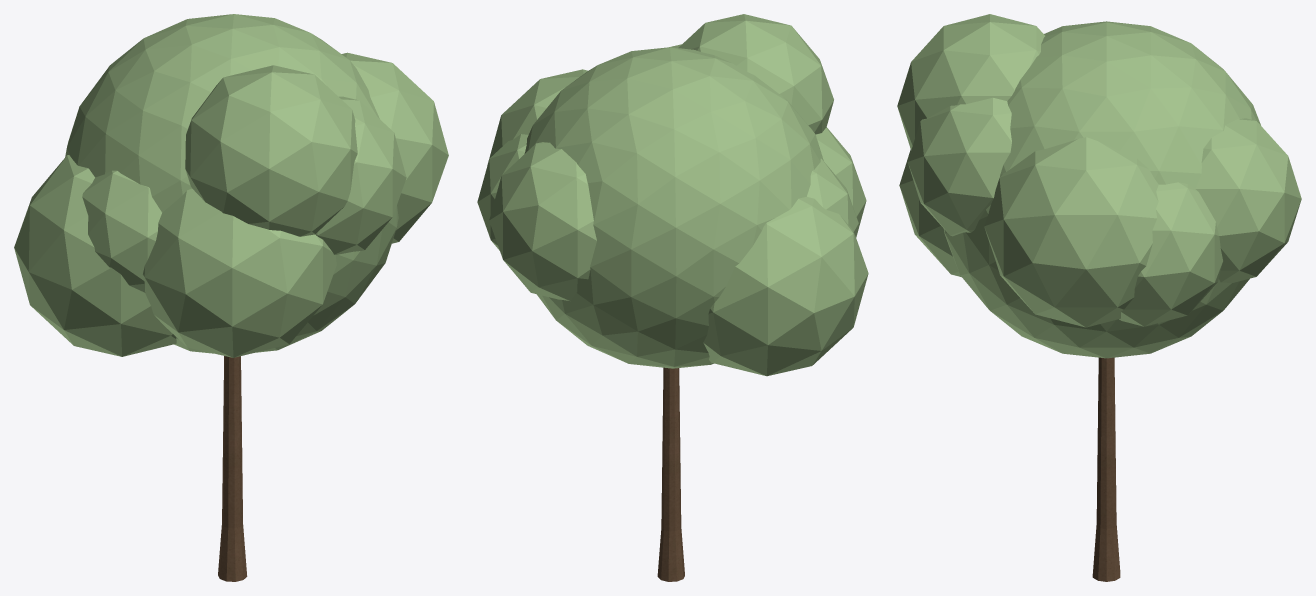
Rendered from tree.glb.
3 views of the same model, side by side, from view 1: azimuth 30°, elevation 25°; view 2: azimuth 150°, elevation 25°; view 3: azimuth 270°, elevation 25° (orthographic). The views are drawn at different scales.
Visible parts, largest first — view 1: tree_leaf, tree_bark; view 2: tree_leaf, tree_bark; view 3: tree_leaf, tree_bark.
Part boxes in pixels (box(x1,y1,x2,y2)): tree_leaf: box(14, 14, 448, 357); tree_bark: box(218, 356, 247, 581); tree_leaf: box(477, 14, 868, 376); tree_bark: box(657, 367, 684, 581); tree_leaf: box(897, 14, 1301, 358); tree_bark: box(1092, 357, 1120, 581).
Bounding box in the file's own units: 5.52 × 7.43 × 5.01.
2 materials, 1 textured.
